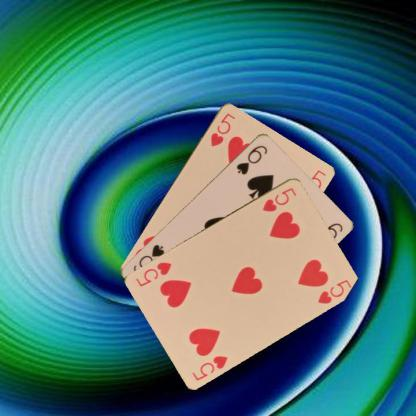5h: (189, 352, 229, 382), (260, 184, 298, 214), (208, 110, 236, 148)
6s: (233, 142, 268, 176)
